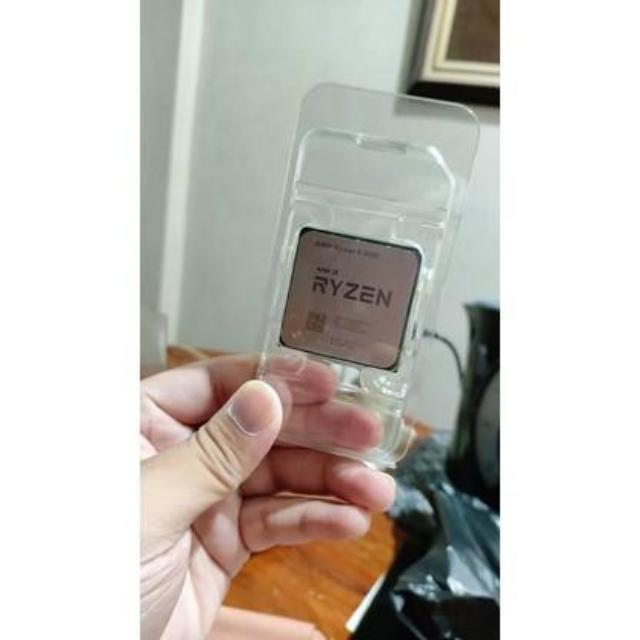CPU: (274, 225, 422, 370)
